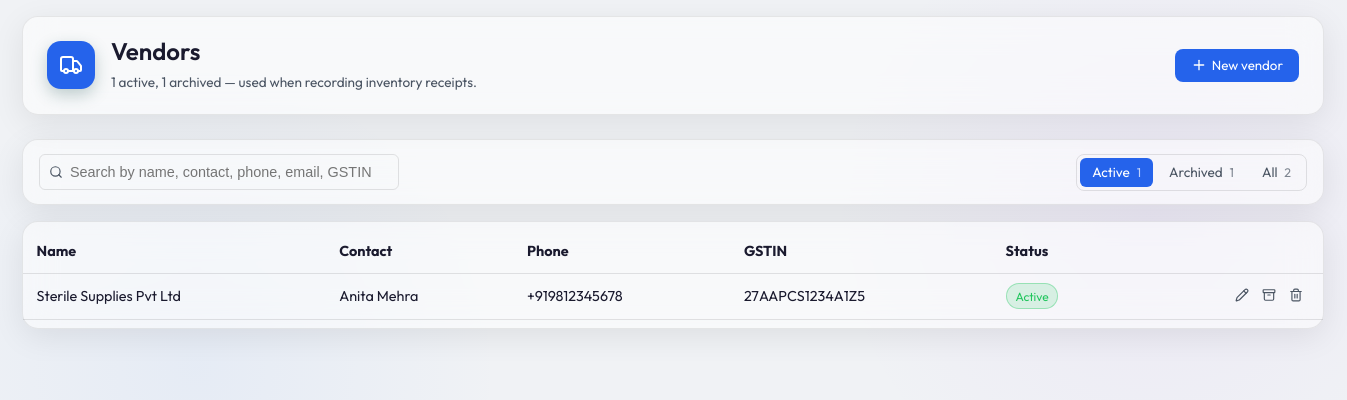
it: <Vendors /> — mount fetch + list render › switching to "Archived" fetches archived vendors from the API
This screenshot has width=1347, height=400.
expect the text "Sterile Supplies Pvt Ltd" is shown: met, box [23,273,326,319]
Click the tab "Archived 1" at (1201,172), box [1157,158,1246,187]
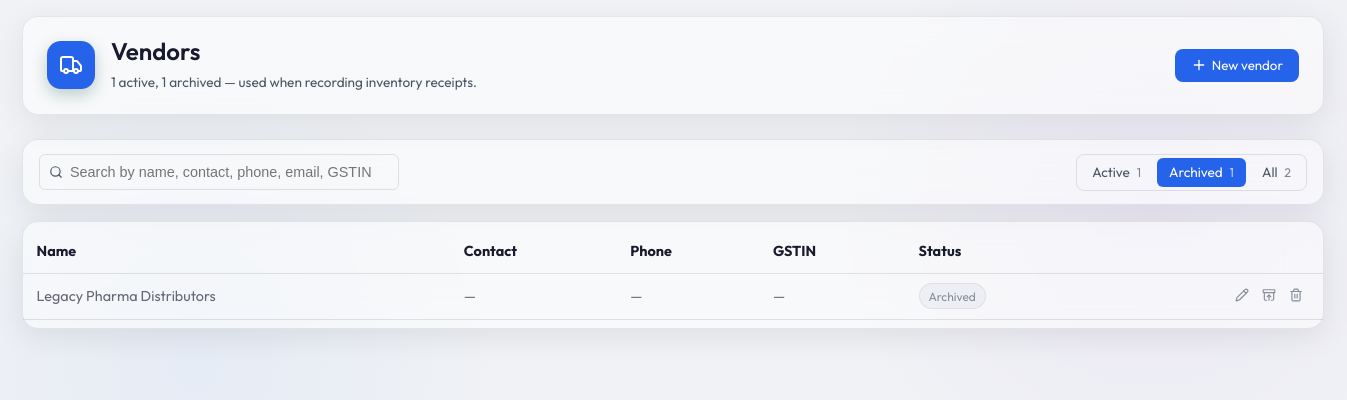
expect the text "Legacy Pharma Distributors" is shown: met, box [23,273,450,319]
expect the text "Sterile Supplies Pvt Ltd" is gone: met
